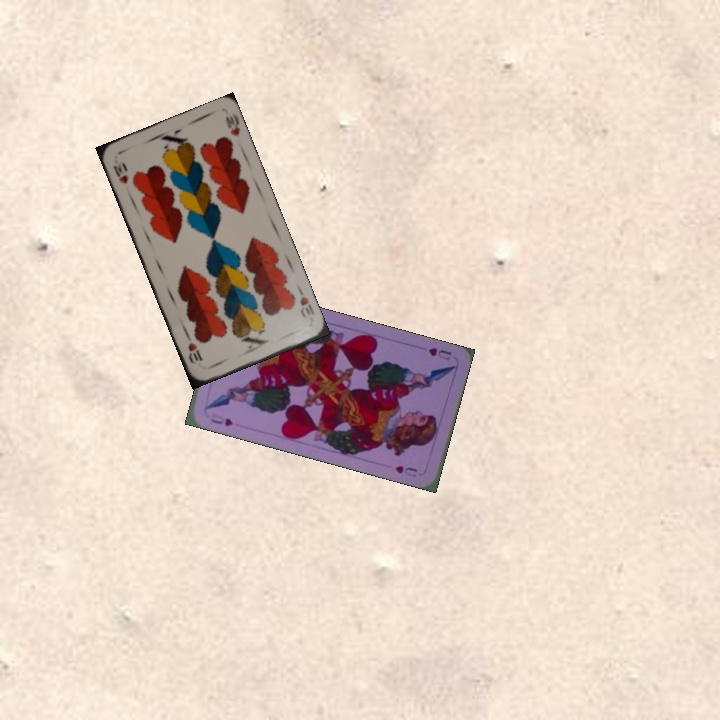H10: (294, 285, 317, 320), (109, 157, 131, 186)
HU: (424, 343, 454, 363), (207, 410, 235, 429)
